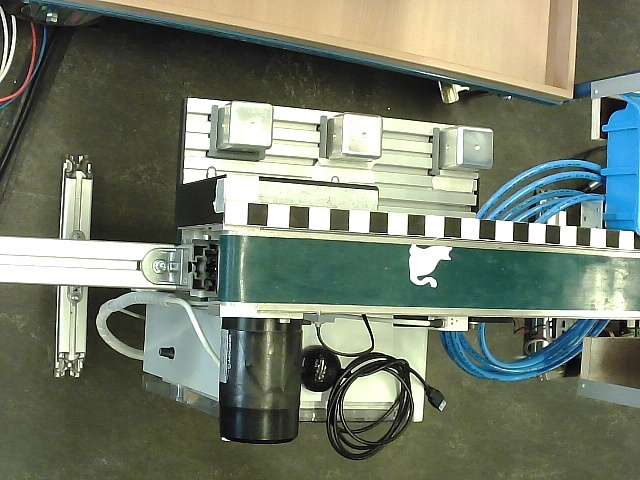cat: (408, 244, 452, 288)
